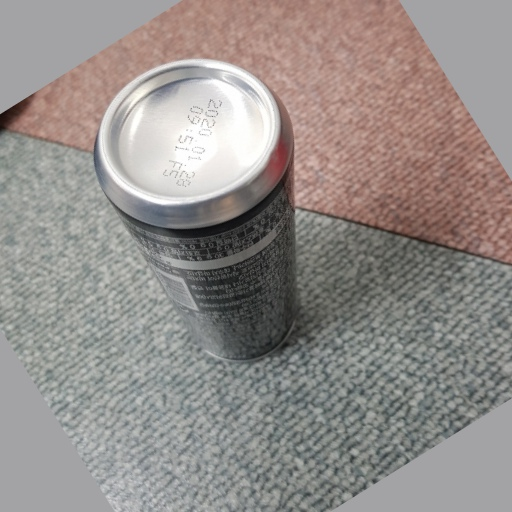Metal_0: (94, 59, 310, 367)
